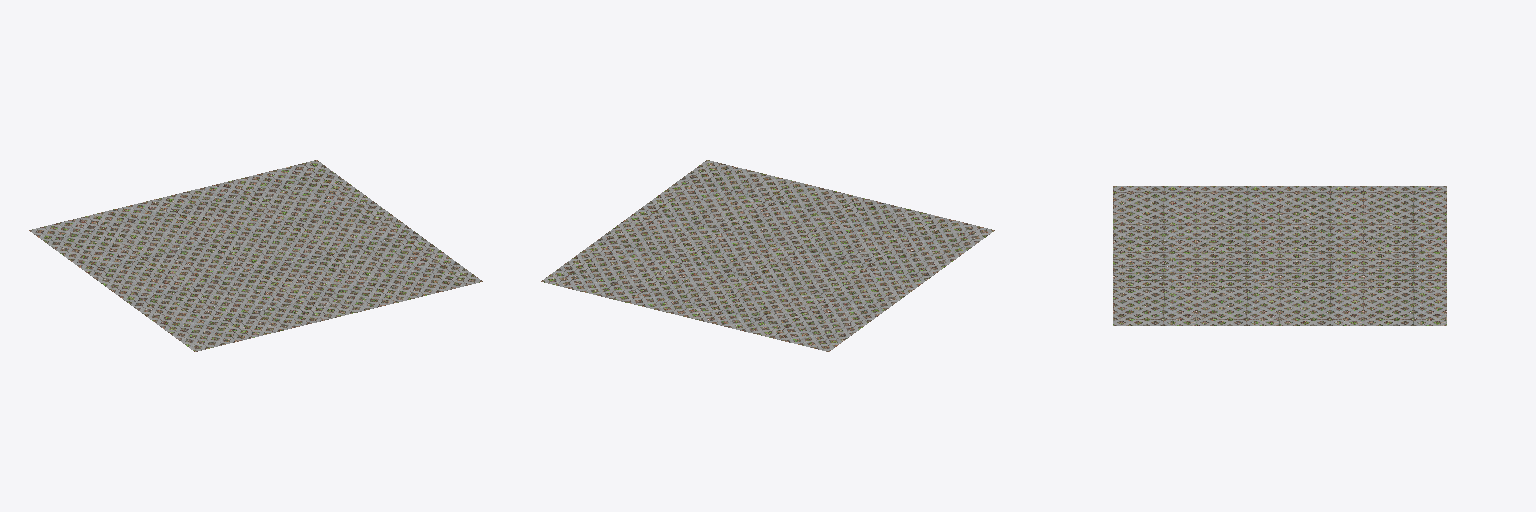
The picture shows the model from 3 angles: view 1: azimuth 30°, elevation 25°; view 2: azimuth 150°, elevation 25°; view 3: azimuth 270°, elevation 25°; orthographic projection.
Visible parts, largest first — view 1: Plane001; view 2: Plane001; view 3: Plane001.
Part boxes in pixels (bbox=[...]): Plane001: bbox=[29, 160, 482, 351]; Plane001: bbox=[541, 160, 994, 351]; Plane001: bbox=[1113, 186, 1446, 325].
Bounding box in the file's own units: 100 × 0 × 100.
1 materials, 1 textured.